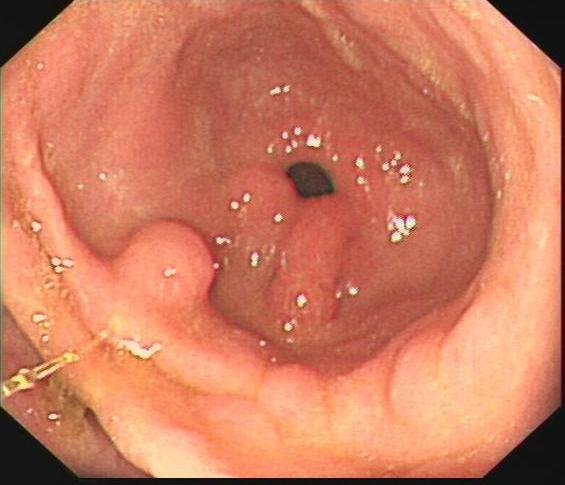Polyp: (106, 215, 232, 299)
